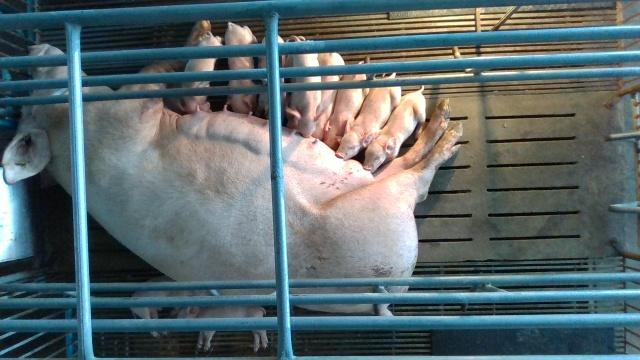piglet: (336, 72, 399, 160), (364, 84, 423, 173), (130, 276, 210, 337), (286, 36, 332, 138), (177, 306, 268, 353), (325, 60, 369, 147), (178, 31, 221, 113), (225, 22, 259, 113), (311, 52, 345, 141), (259, 34, 288, 124)
sow-sleep-lactate: (2, 42, 464, 313)
